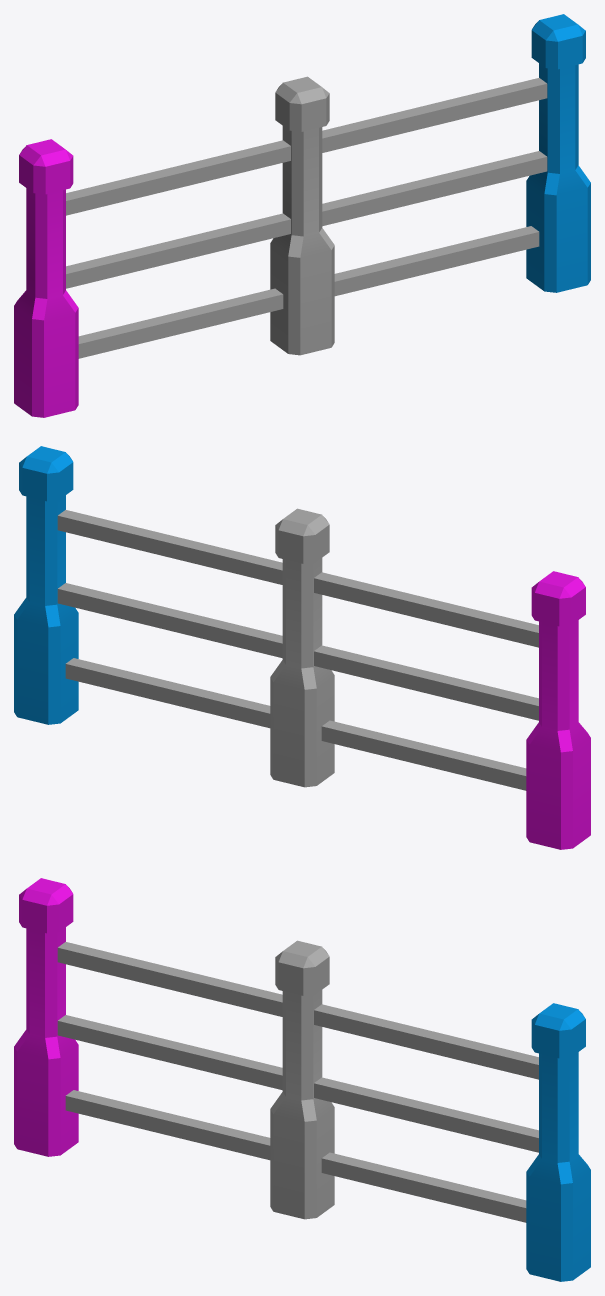
File: fenceTile.fbx
The picture shows the model from 3 angles, top to bottom: view 1: azimuth 30°, elevation 25°; view 2: azimuth 150°, elevation 25°; view 3: azimuth 330°, elevation 25°; orthographic projection.
Visible parts, largest first — view 1: fENCEbACKUP2_pCube5; view 2: fENCEbACKUP2_pCube5; view 3: fENCEbACKUP2_pCube5.
Boxes of the visible parts, box(x1,y1,x2,y2) form: fENCEbACKUP2_pCube5: box(14, 14, 590, 417); fENCEbACKUP2_pCube5: box(14, 446, 590, 849); fENCEbACKUP2_pCube5: box(14, 878, 590, 1281).
Bounding box in the file's own units: 240 × 105 × 20.
